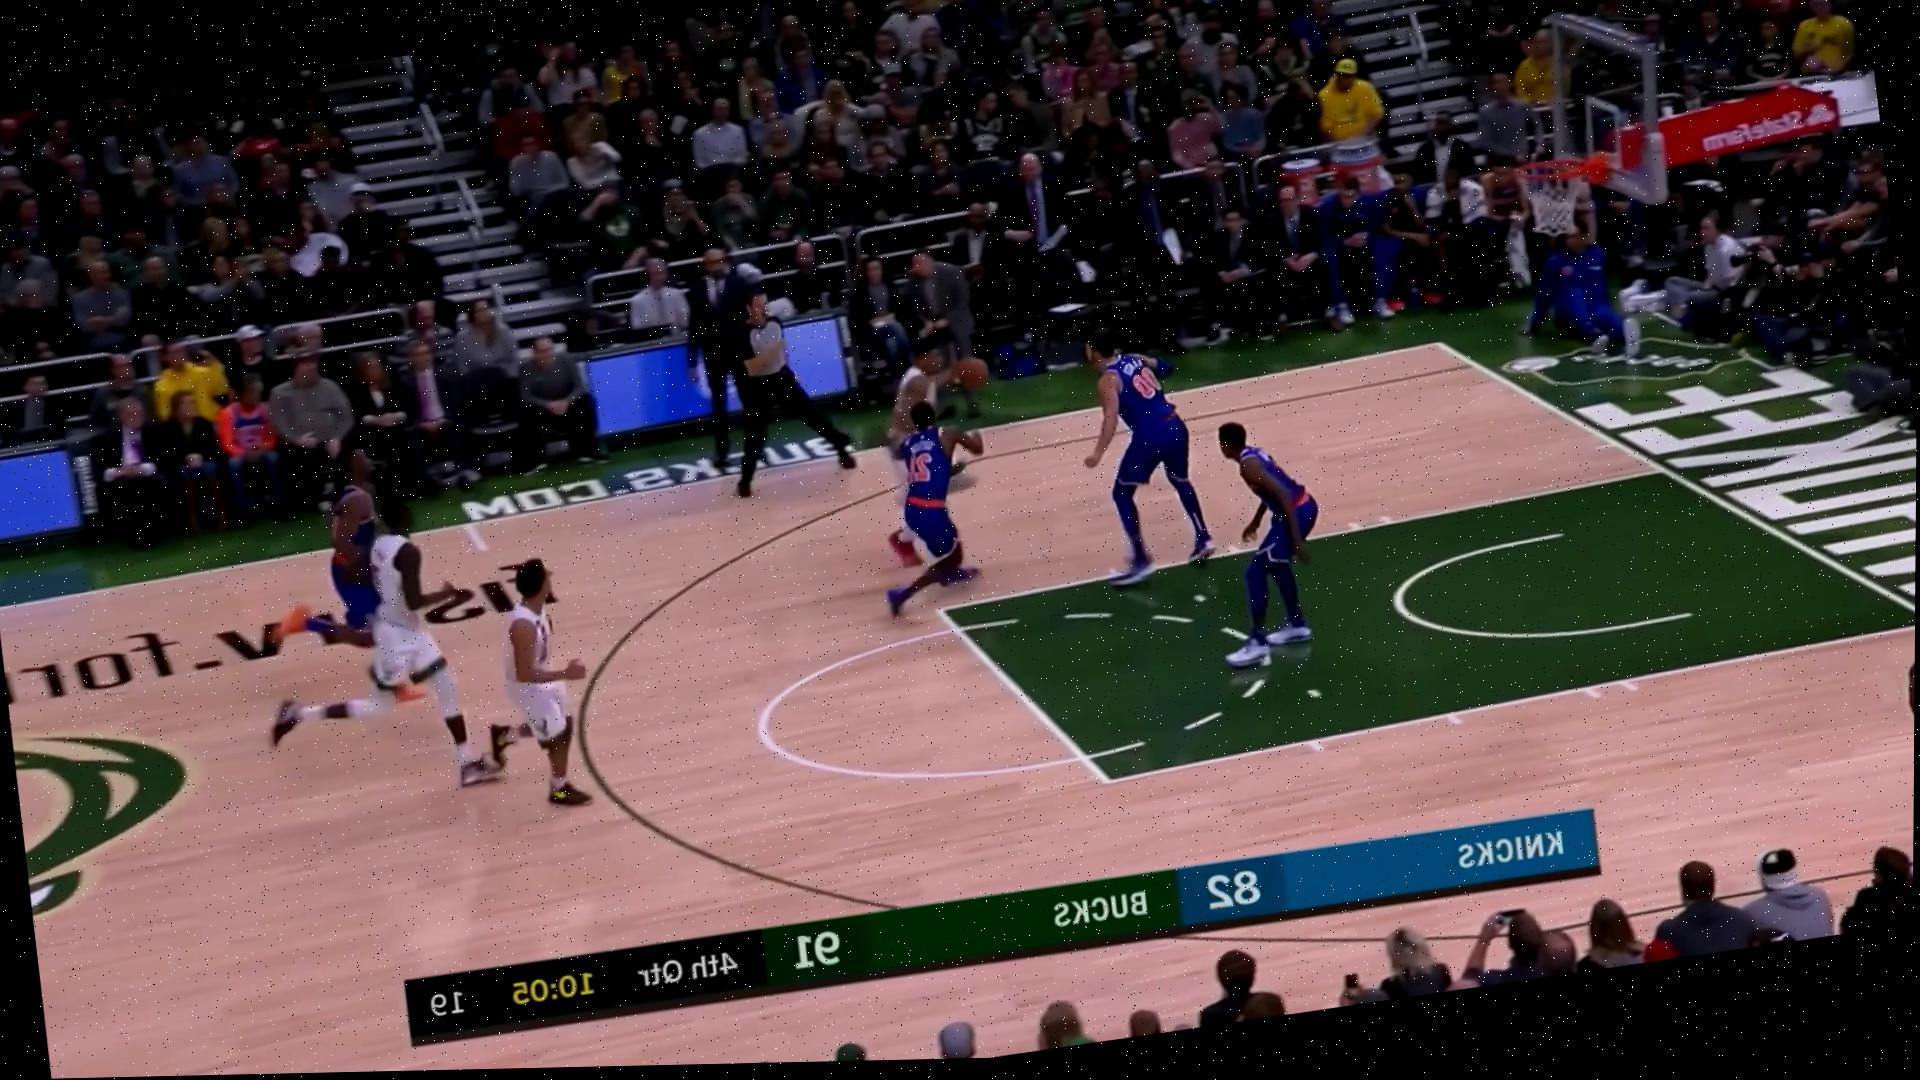no_foul: (822, 327, 1040, 632)
